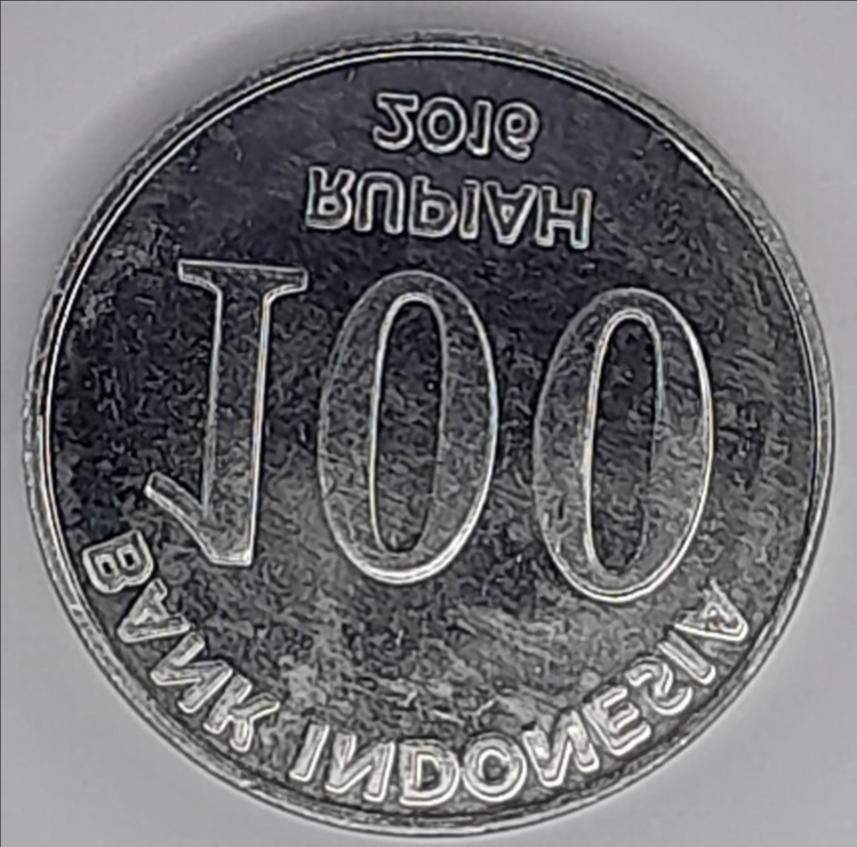coin_100_e2016: (18, 23, 840, 840)
